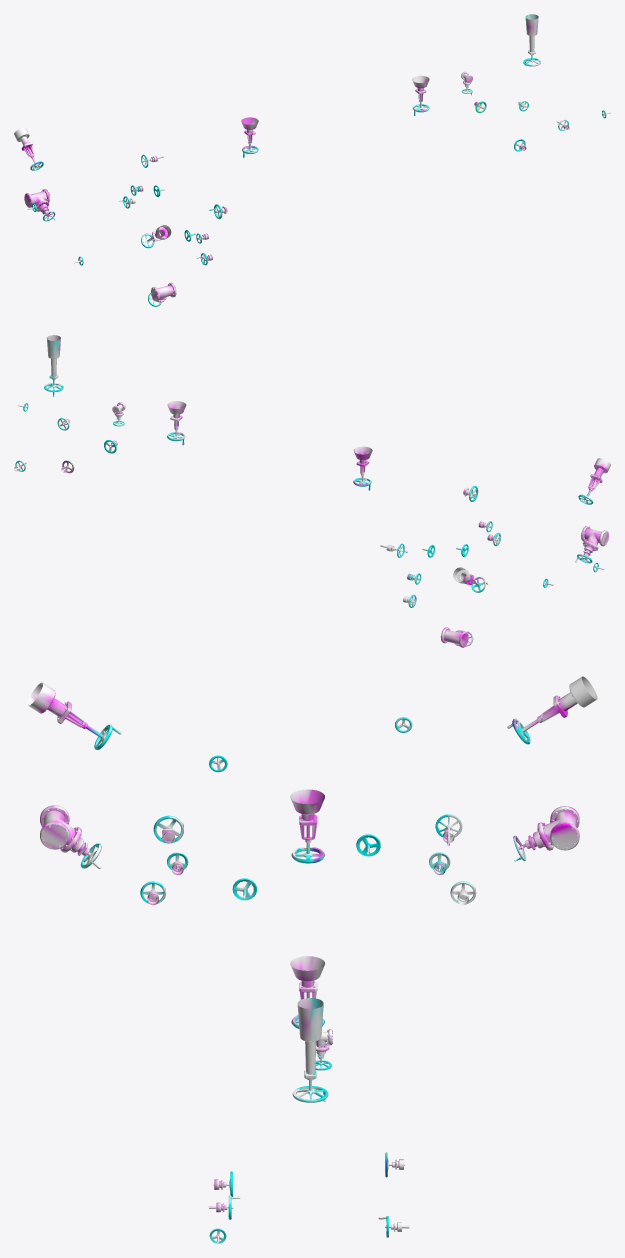
Rendered from SM_Engine_Valves-A.fbx.
3 renders of one model, top to bottom at view 1: azimuth 30°, elevation 25°; view 2: azimuth 150°, elevation 25°; view 3: azimuth 270°, elevation 25°, orthographic. The views are drawn at different scales.
Visible parts, largest first — view 1: SM_Engine_Valves-A_LOD0; view 2: SM_Engine_Valves-A_LOD0; view 3: SM_Engine_Valves-A_LOD0.
Boxes of the visible parts, x1=… form: SM_Engine_Valves-A_LOD0: x1=14, y1=14, x2=610, y2=306; SM_Engine_Valves-A_LOD0: x1=14, y1=335, x2=610, y2=647; SM_Engine_Valves-A_LOD0: x1=27, y1=676, x2=597, y2=1243.
Bounding box in the file's own units: 1462 × 672 × 371.
